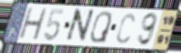5: (43, 8, 66, 42)
9: (136, 12, 159, 47)
C: (115, 12, 136, 45)
H: (17, 7, 49, 41)
N: (63, 8, 96, 45)
Q: (89, 10, 113, 44)
